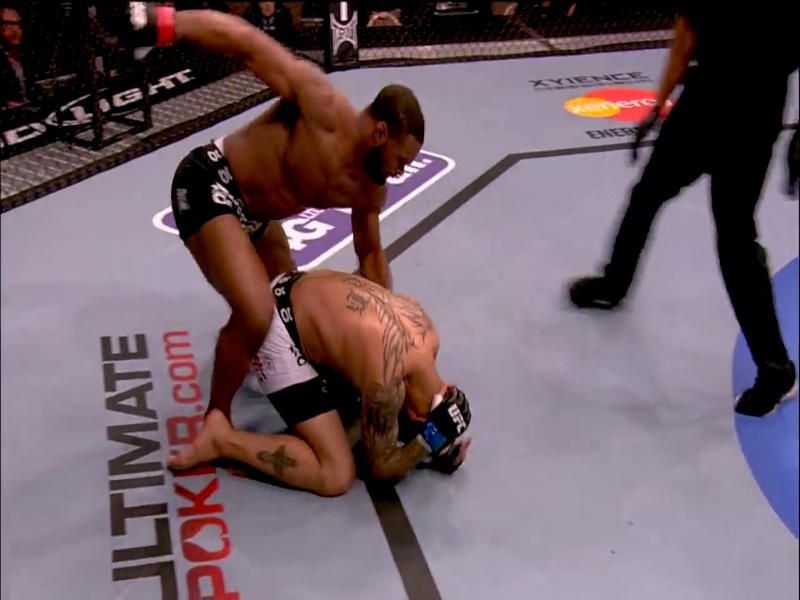fighter: (107, 3, 429, 428), (167, 259, 484, 509)
